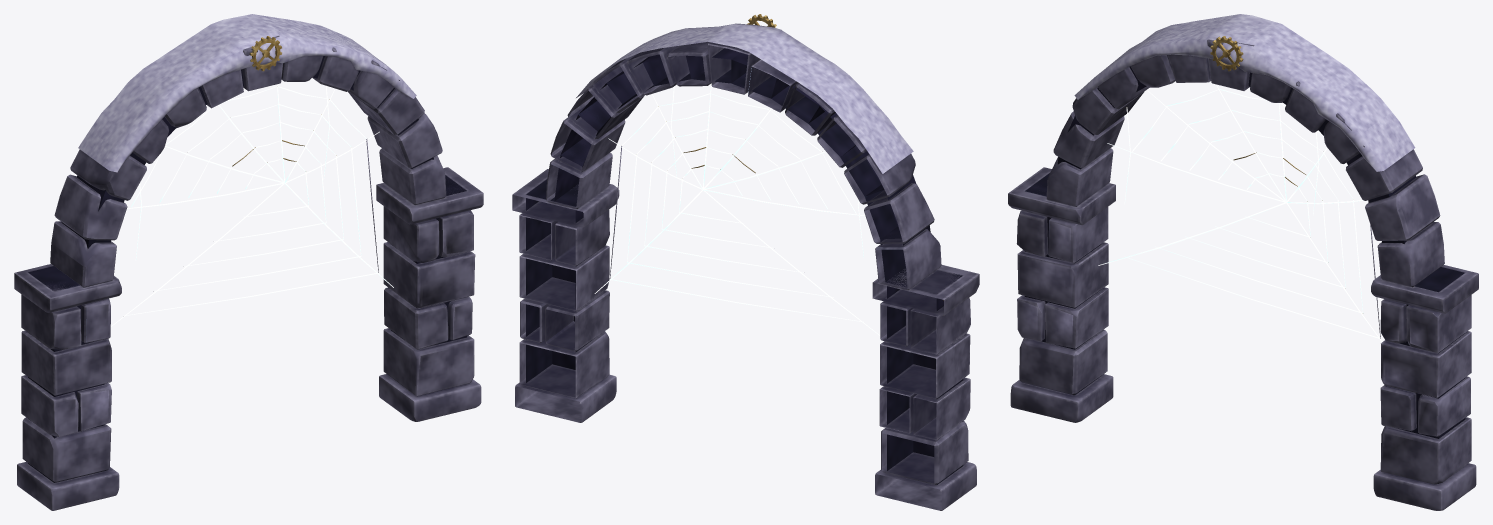
The model's file is Promenade_Arch.fbx.
3 views of the same model, side by side, from view 1: azimuth 30°, elevation 25°; view 2: azimuth 150°, elevation 25°; view 3: azimuth 330°, elevation 25° (orthographic).
Parts seen in each view (by area): view 1: Promenade_Arch; view 2: Promenade_Arch; view 3: Promenade_Arch.
Part boxes in pixels (x1,y1,x2,y2): Promenade_Arch: [14, 14, 483, 510]; Promenade_Arch: [512, 14, 979, 510]; Promenade_Arch: [1008, 14, 1478, 510].
Bounding box in the file's own units: 6.06 × 5.62 × 0.87.
